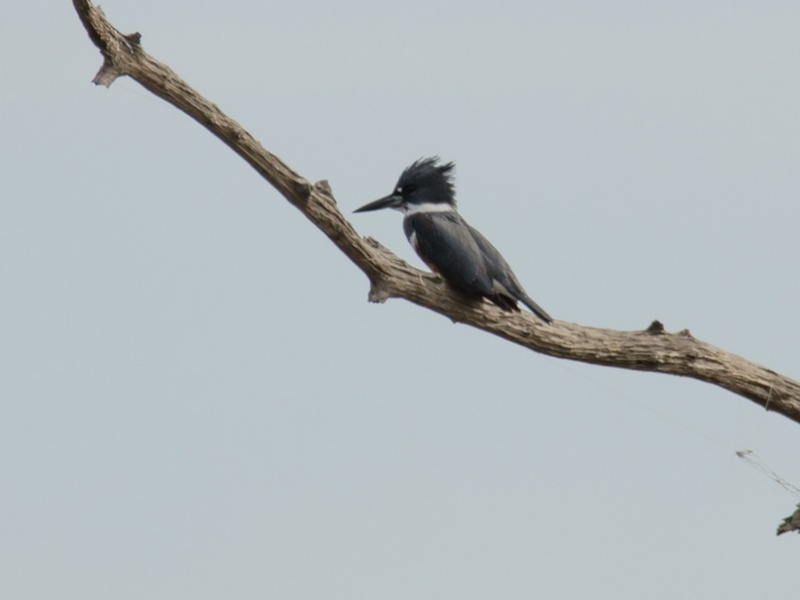kingfisher: (353, 154, 556, 323)
